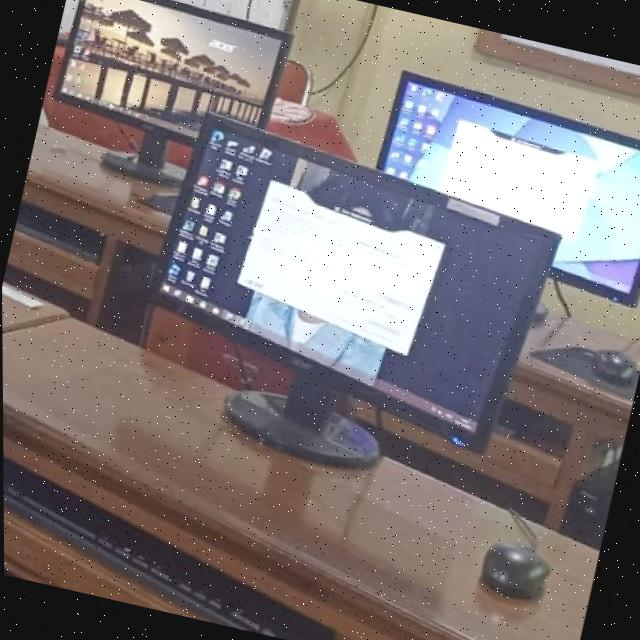onscreen: (156, 116, 557, 450), (377, 73, 640, 307), (58, 0, 288, 141)
